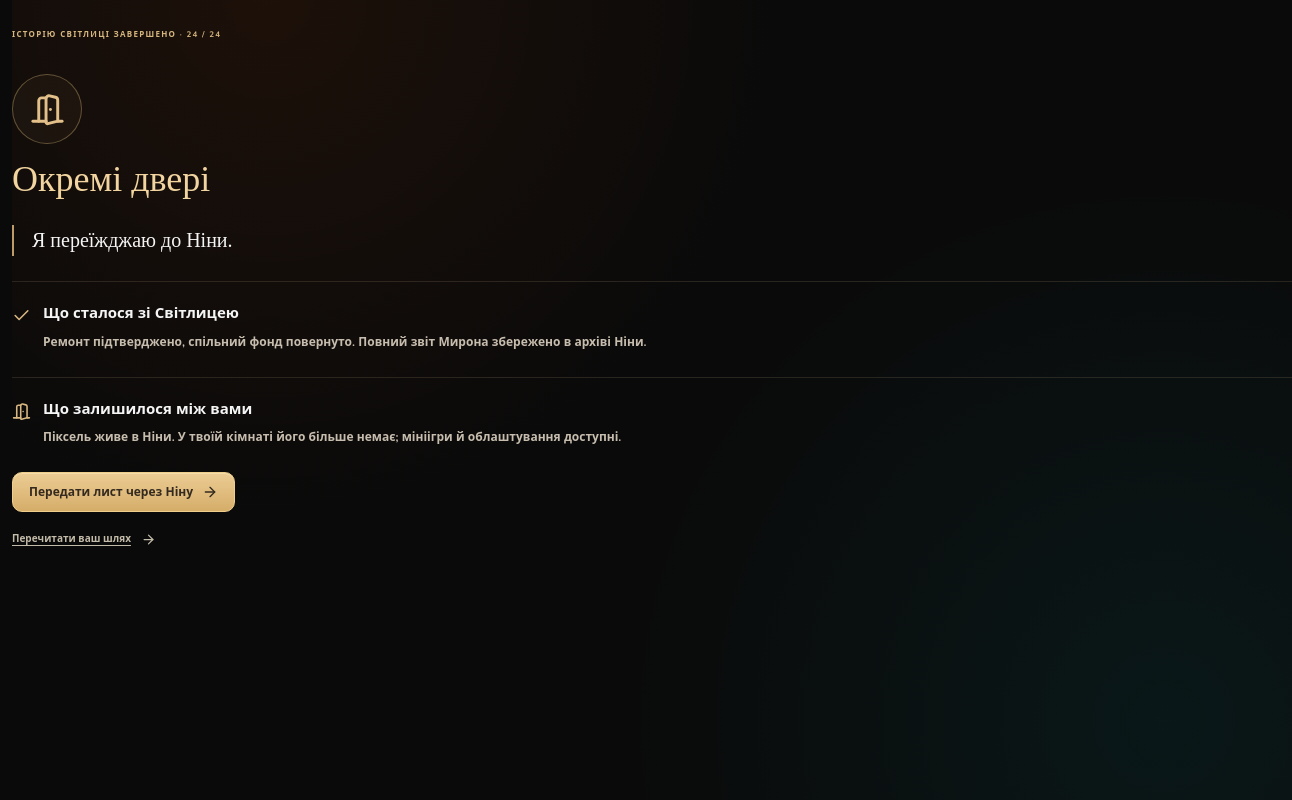
Test case: post-ending contact is a deliberate separate action, with no auto-return
Click the button "Передати лист через Ніну": (124, 492) [12,472,235,512]
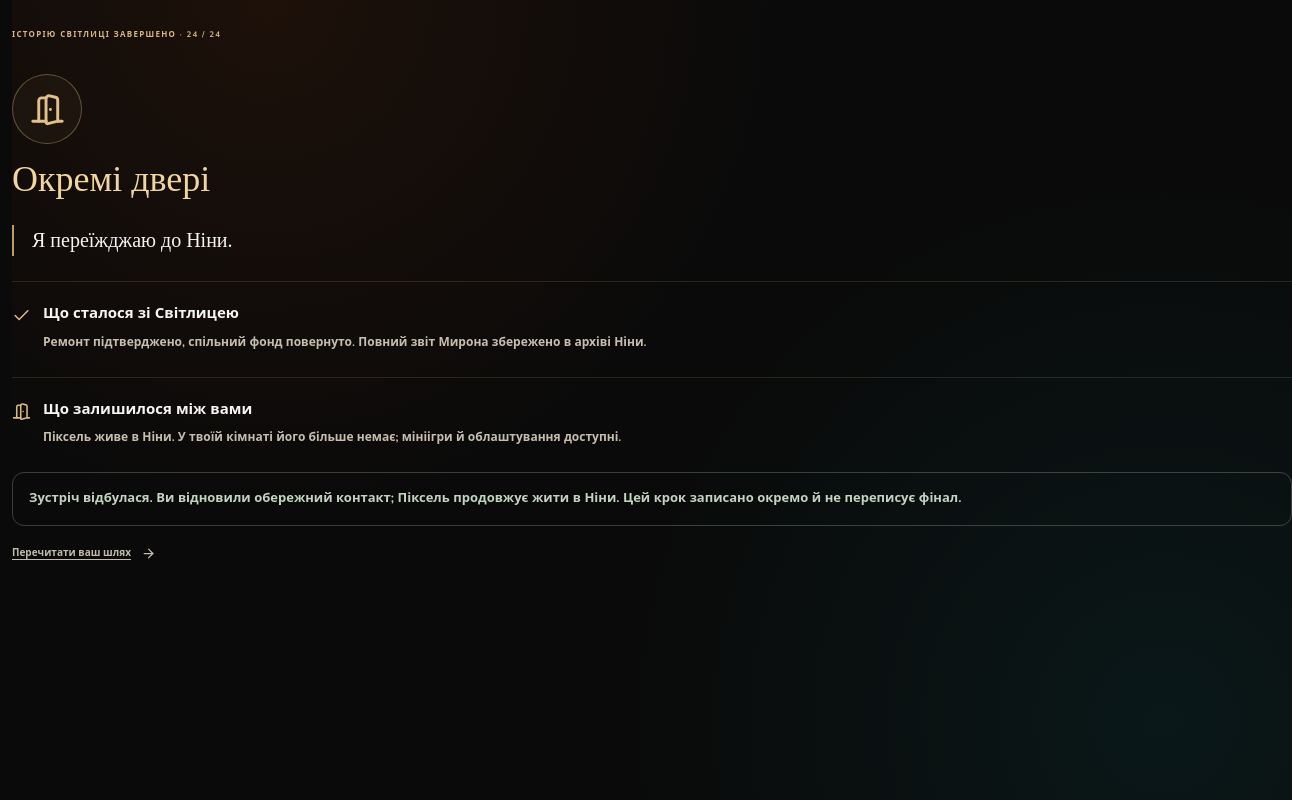
Now the text "продовжує жити в Ніни" is shown, box [29,489,962,507]
